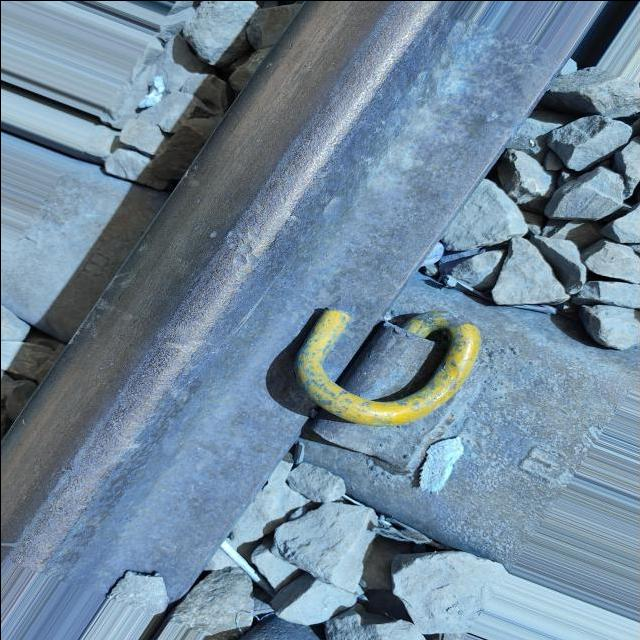broken_rail_medium: (225, 229, 263, 264), (207, 228, 221, 238), (61, 463, 75, 471), (194, 196, 203, 202)
